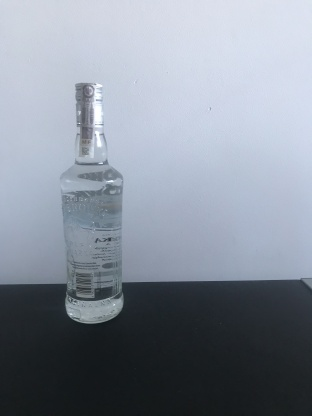nakretka: (72, 78, 106, 130)
